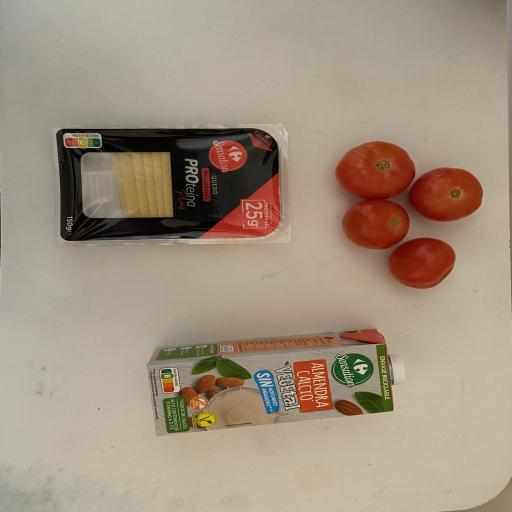cheese: (50, 124, 294, 247)
milk_almendra: (142, 326, 409, 438)
tomato: (332, 140, 418, 201), (407, 165, 487, 224), (338, 196, 414, 252), (385, 234, 459, 290)
